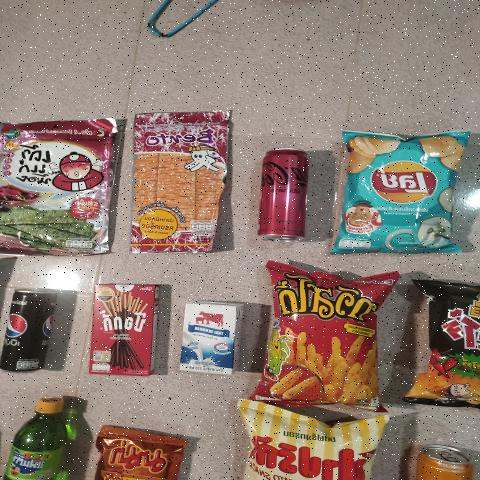bento_red: (134, 111, 229, 250)
coke_red: (252, 147, 314, 243)
lay_blue: (340, 140, 466, 248)
pepsi_black: (1, 292, 60, 377)
pokki: (88, 282, 158, 374)
taokaenoi: (0, 121, 115, 253)
thai_denmark: (181, 297, 248, 378)
twisco: (264, 272, 390, 402)
